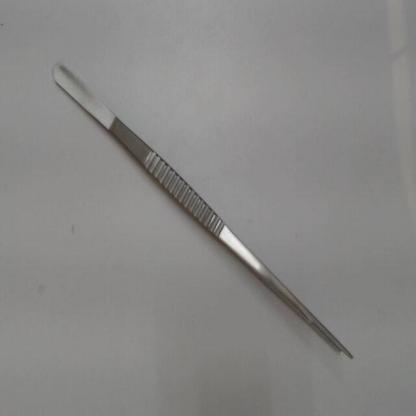DeBakey Dissector: (21, 38, 377, 394)
